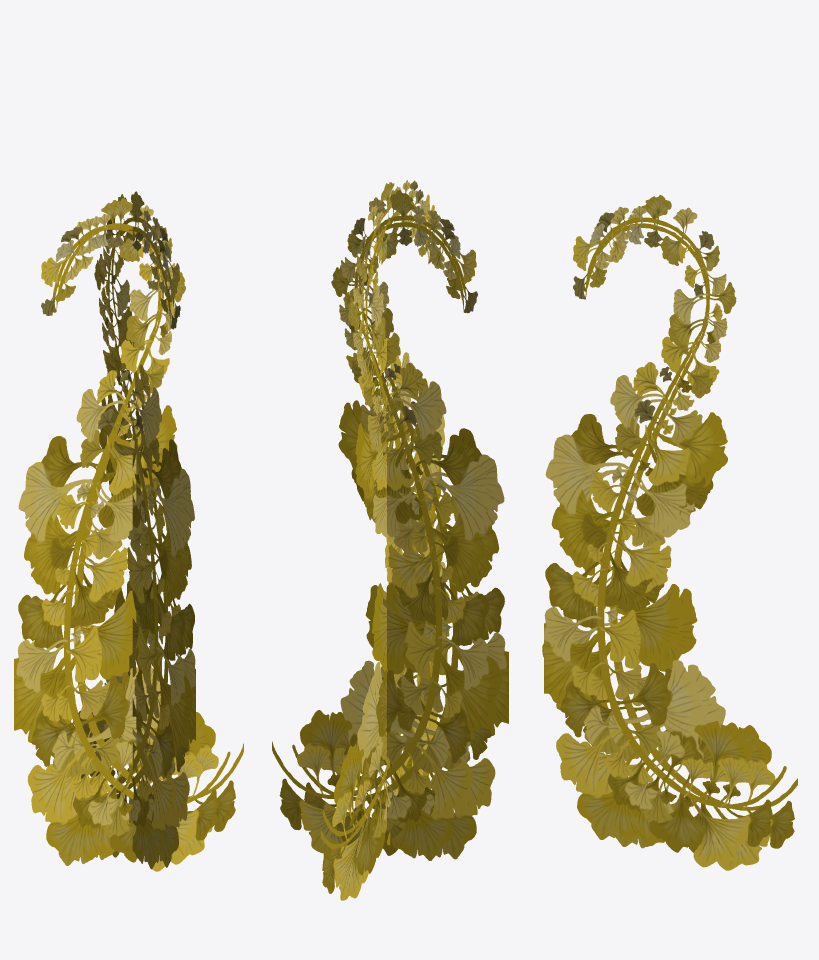
The model's file is plantes_v1_mur.FBX.
The picture shows the model from 3 angles, left to right: view 1: azimuth 30°, elevation 25°; view 2: azimuth 150°, elevation 25°; view 3: azimuth 270°, elevation 25°; orthographic projection.
Visible parts, largest first — view 1: Object176, Plane130, Object175; view 2: Plane130, Object176, Object175; view 3: Object175, Plane130.
Part boxes in pixels (<box>): Object176: <box>14,198,230,871</box>; Plane130: <box>28,200,243,869</box>; Object175: <box>72,191,195,867</box>; Plane130: <box>272,188,501,900</box>; Object176: <box>292,190,508,859</box>; Object175: <box>322,180,445,883</box>; Object175: <box>544,195,786,867</box>; Plane130: <box>542,203,797,870</box>.
Bounding box in the file's own units: 53.1 × 181 × 53.56.
Materials: 1 (1 with a texture image).
